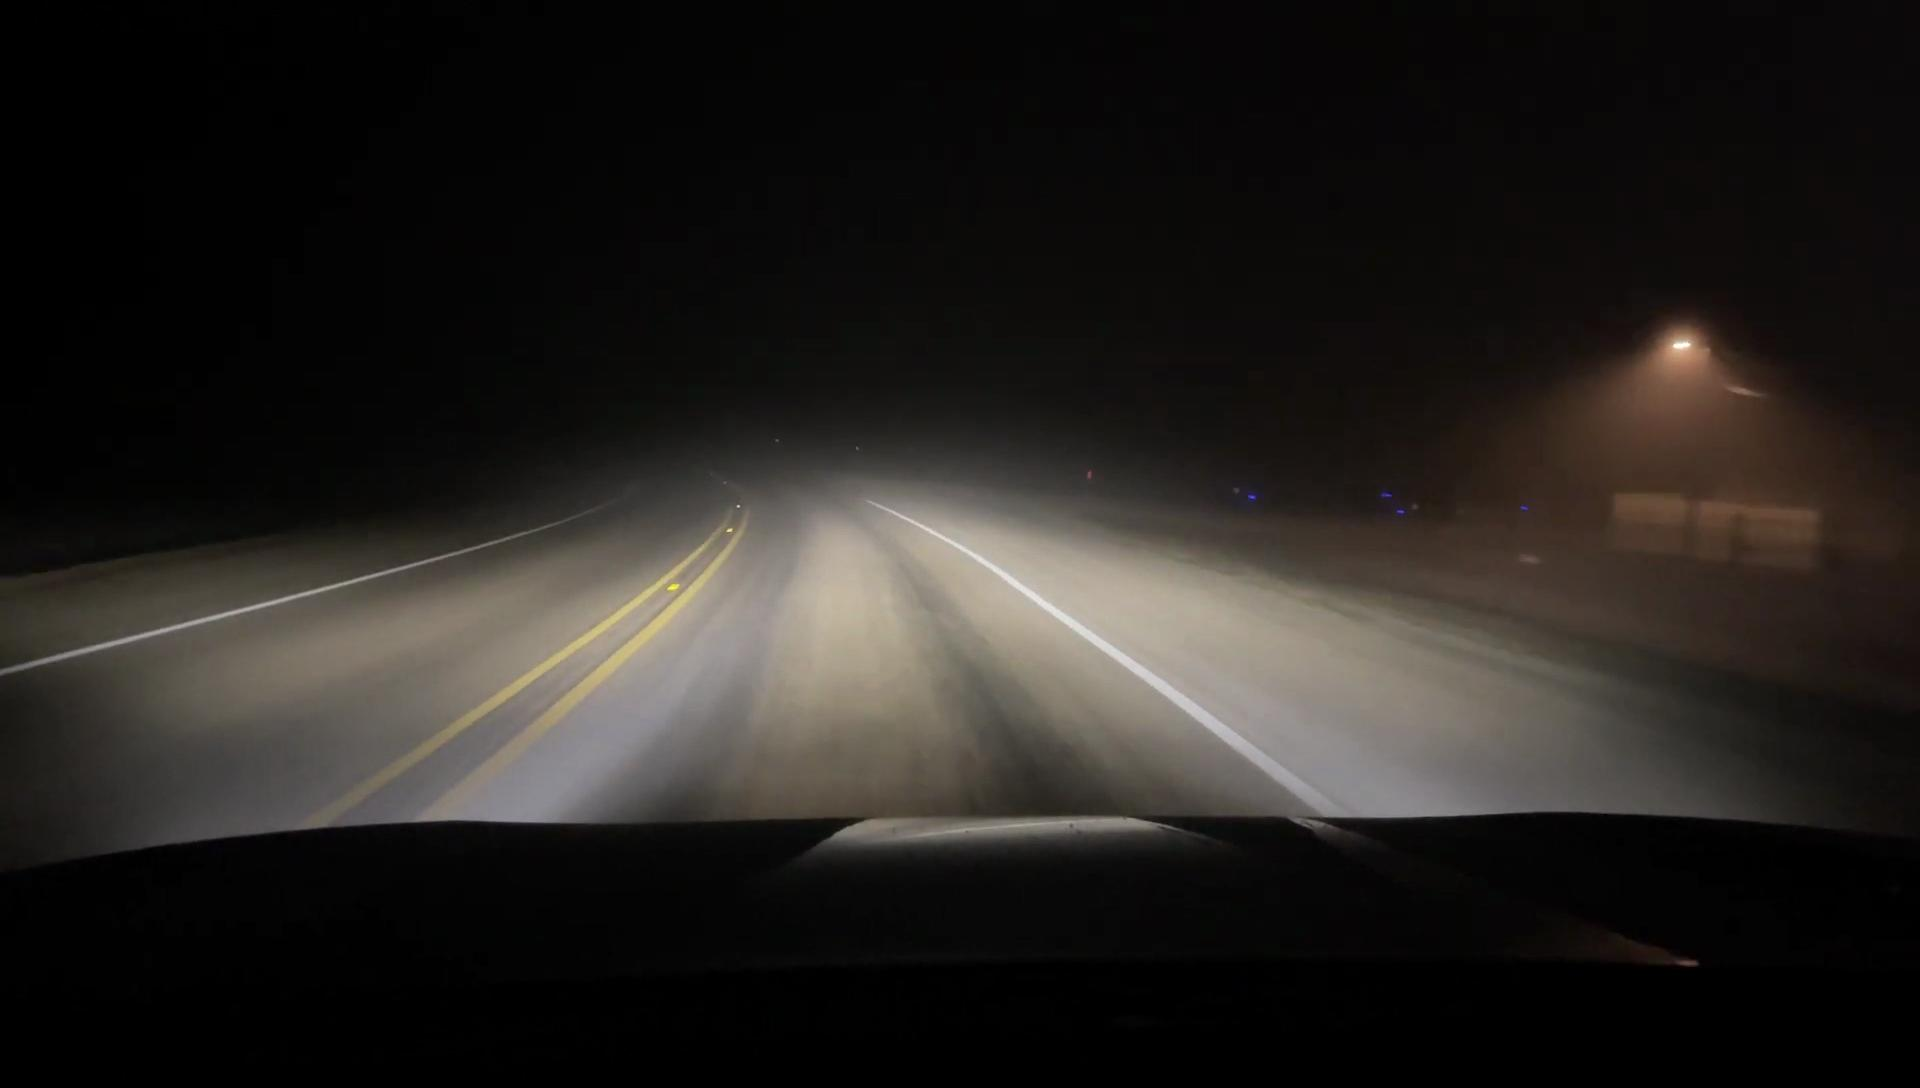road-lanes: (446, 484, 1300, 824)
